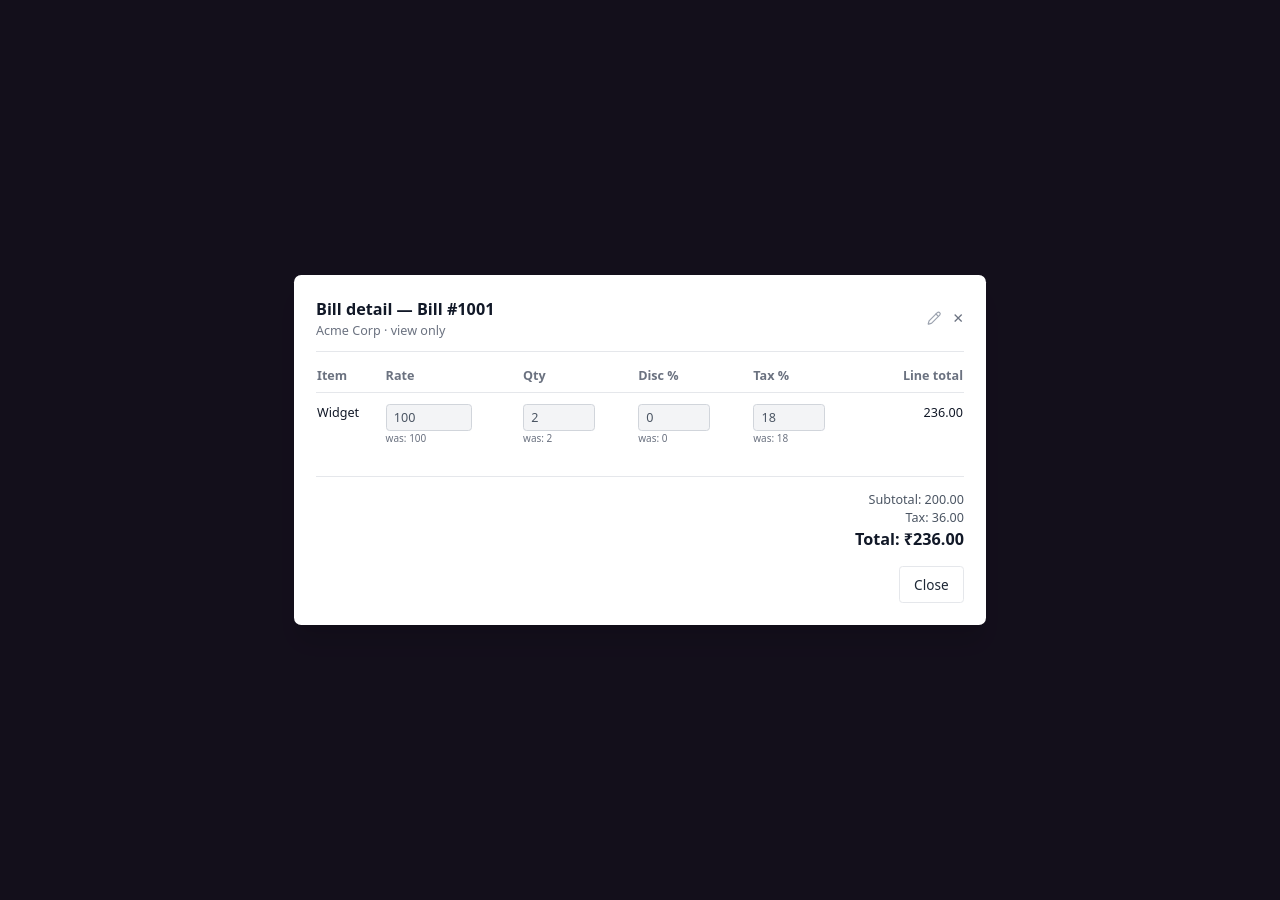
Test case: EditBillPriceDialog › opens read-only: inputs disabled, no Save, until "Correct prices" is clicked
Expected: the number field named "Rate for Widget" is disabled, [386,404,472,431]
Expected: the button "save audit note" is not shown
Click the button named "correct prices" at {"x": 935, "y": 318}, box [922,306,947,331]
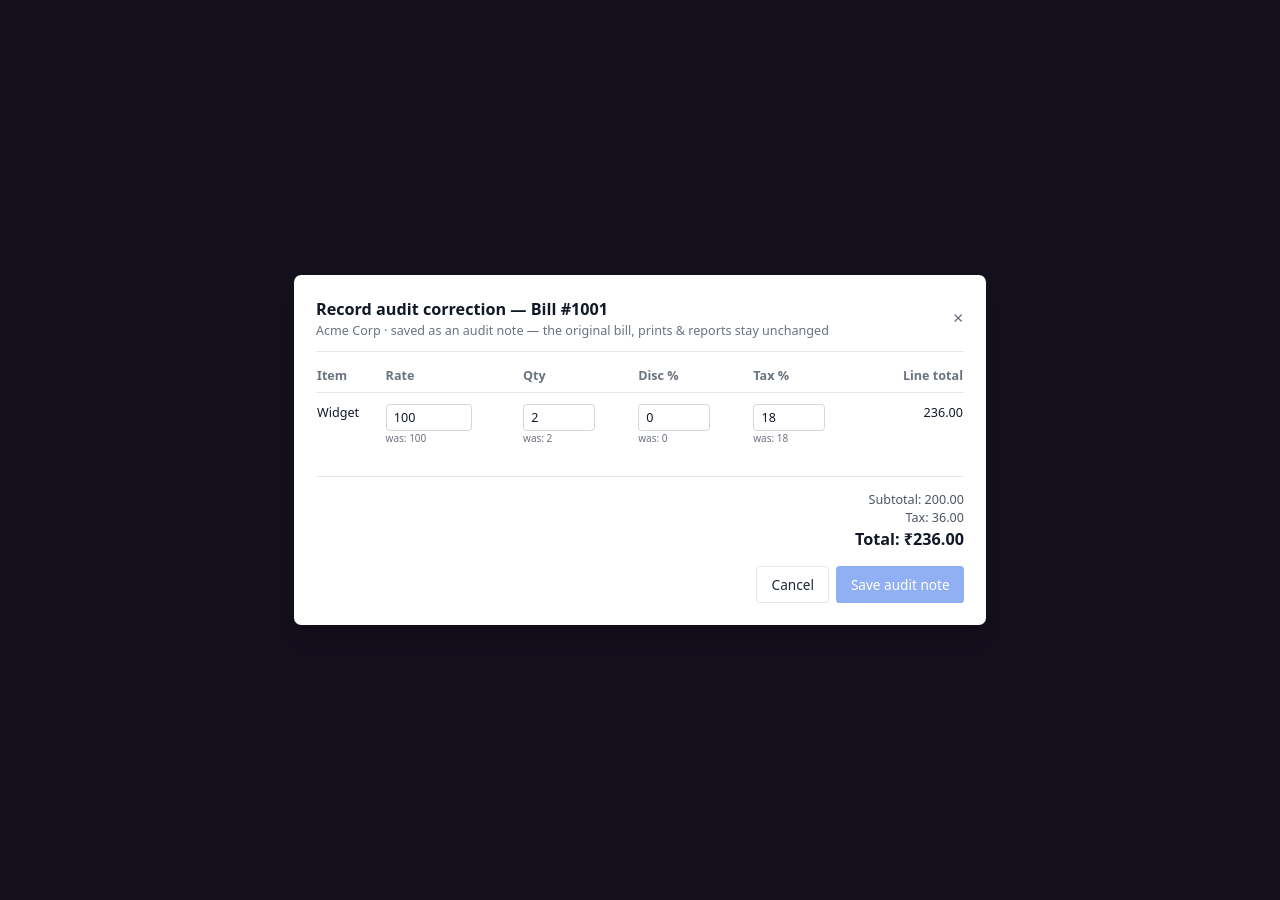
Result: the number field named "Rate for Widget" is enabled at [386,404,472,431]
Result: the button "Save audit note" is shown at [836,566,964,603]
